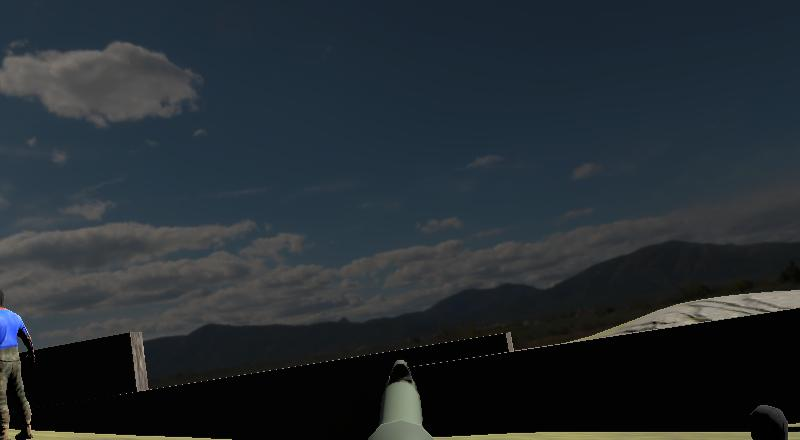Human: (0, 268, 44, 440), (697, 399, 800, 440)
